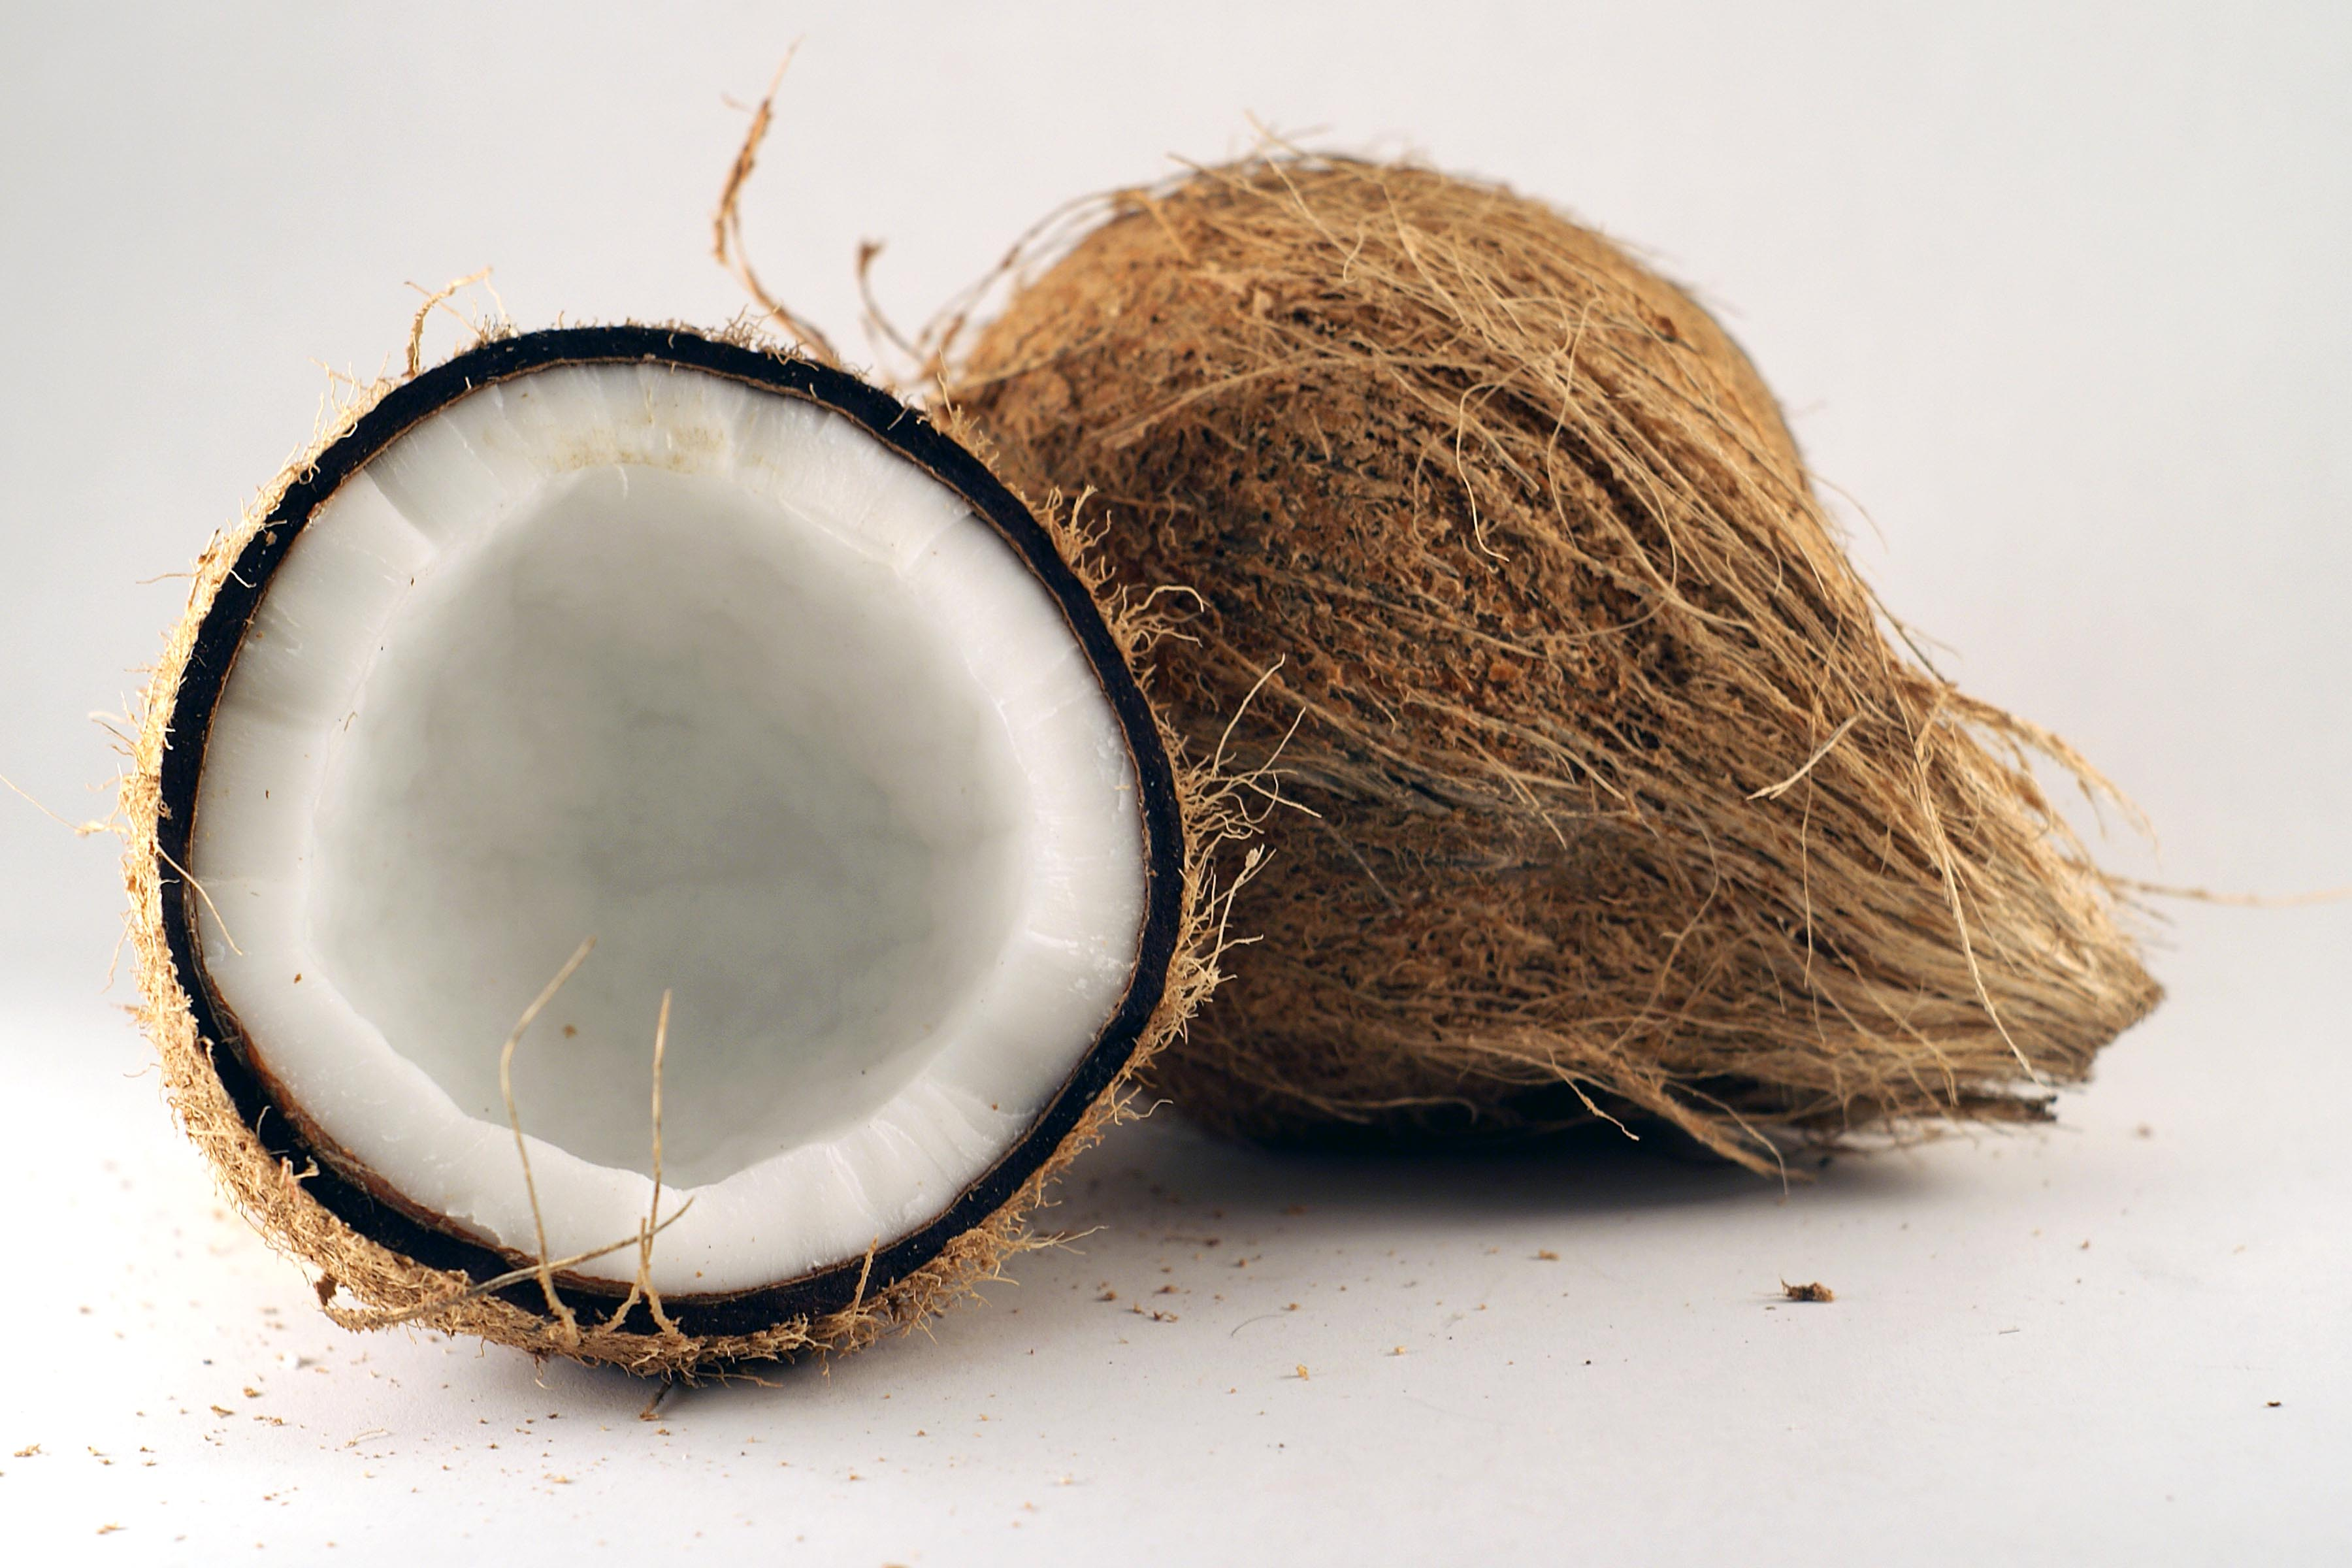coconut: (135, 308, 1155, 1374), (1015, 147, 2035, 1134)
